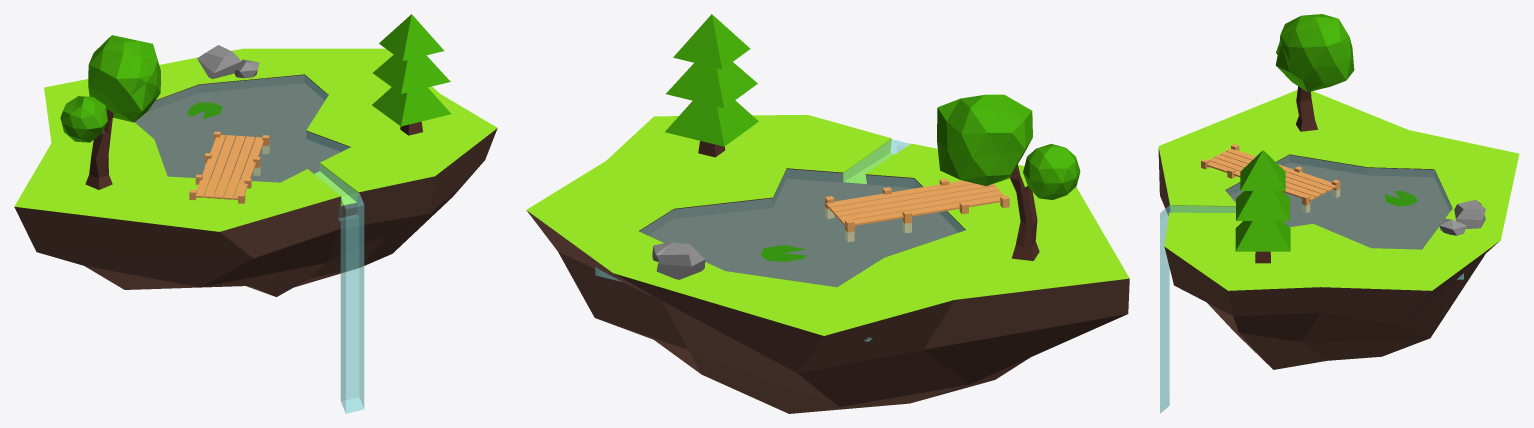
File: Low-poly-island.glb
The picture shows the model from 3 angles, left to right: view 1: azimuth 30°, elevation 25°; view 2: azimuth 150°, elevation 25°; view 3: azimuth 270°, elevation 25°; orthographic projection. The views are drawn at different scales.
Parts seen in each view (by area): view 1: Plane, Cube, Cube.001, Cube.002, Icosphere, Cube.005, Icosphere.001, Cube.003, Cube.004; view 2: Plane, Cube, Cube.002, Icosphere, Cube.005, Icosphere.001, Cube.003, Cube.004, Plane.002; view 3: Plane, Cube, Cube.002, Icosphere, Cube.001, Cube.005, Cube.004, Cube.003, Plane.002, Icosphere.002.
Boxes of the visible parts, bbox=[...] form: Plane: bbox=[14, 48, 497, 296]; Cube: bbox=[135, 75, 349, 182]; Cube.001: bbox=[322, 176, 364, 413]; Cube.002: bbox=[372, 14, 451, 135]; Icosphere: bbox=[88, 35, 160, 122]; Cube.005: bbox=[194, 134, 263, 199]; Icosphere.001: bbox=[60, 96, 107, 142]; Cube.003: bbox=[85, 109, 113, 189]; Cube.004: bbox=[197, 45, 241, 79]; Plane: bbox=[526, 115, 1129, 413]; Cube: bbox=[595, 159, 964, 341]; Cube.002: bbox=[665, 14, 758, 157]; Icosphere: bbox=[937, 94, 1032, 186]; Cube.005: bbox=[825, 180, 1004, 227]; Icosphere.001: bbox=[1023, 143, 1080, 199]; Cube.003: bbox=[1010, 164, 1039, 260]; Cube.004: bbox=[656, 243, 705, 279]; Plane.002: bbox=[760, 245, 806, 261]; Plane: bbox=[1158, 90, 1519, 369]; Cube: bbox=[1213, 155, 1463, 279]; Cube.002: bbox=[1235, 150, 1290, 263]; Icosphere: bbox=[1275, 14, 1354, 92]; Cube.001: bbox=[1160, 205, 1212, 413]; Cube.005: bbox=[1206, 148, 1338, 201]; Cube.004: bbox=[1454, 200, 1485, 228]; Cube.003: bbox=[1296, 86, 1317, 131]; Plane.002: bbox=[1384, 191, 1417, 206]; Icosphere.002: bbox=[1439, 218, 1466, 235].
Bounding box in the file's own units: 3.22 × 2.4 × 2.42.
